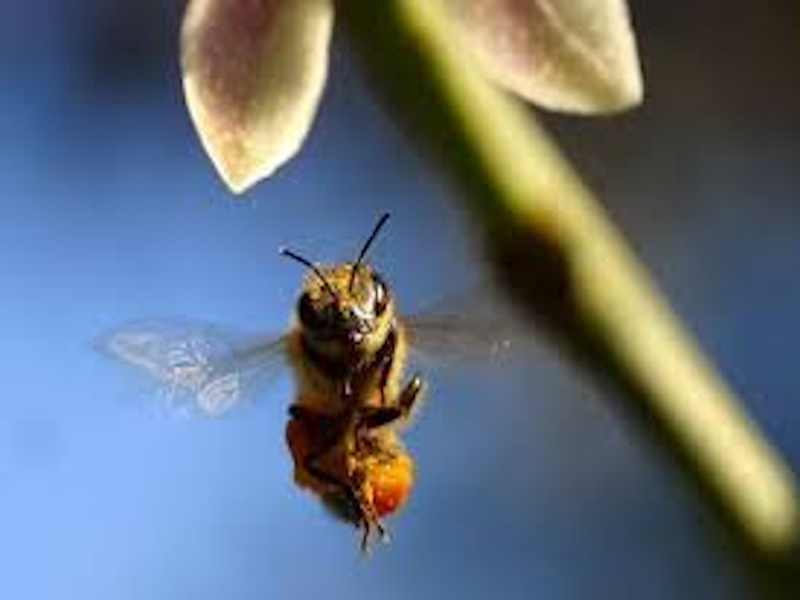abeja: (56, 204, 598, 540)
